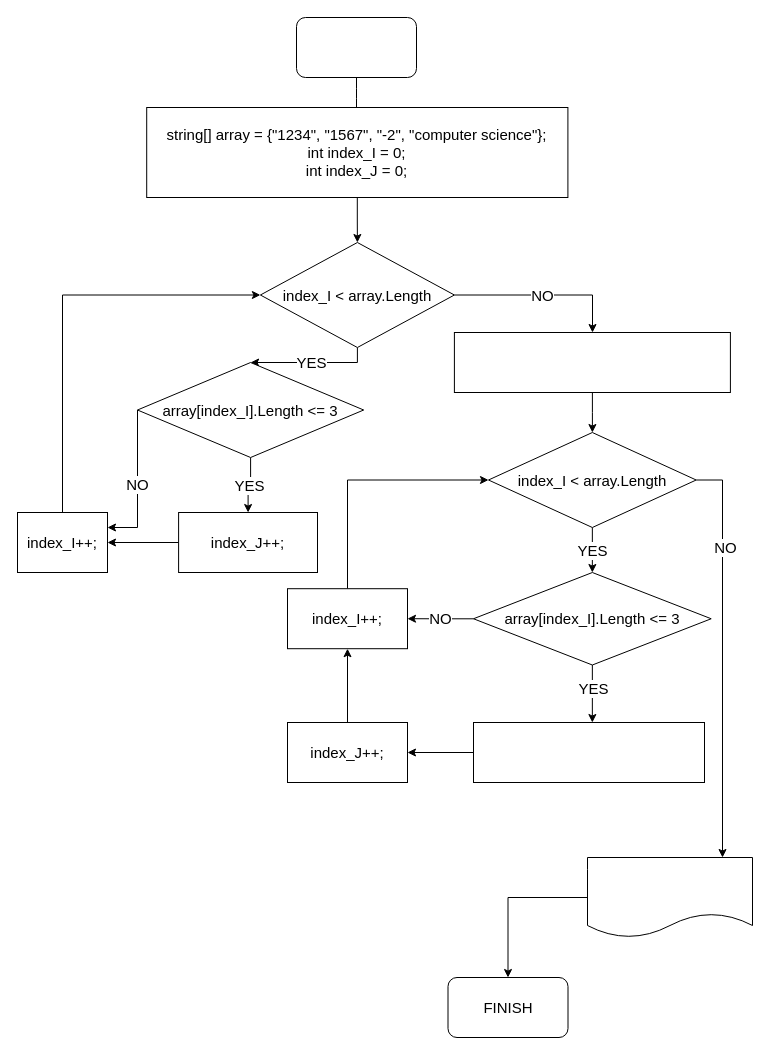
This 770x1055 diagram has some shape labels left out. Here are the shapes that lost their labels. From the top down, the centre of each, then its label:
(x=356, y=47): START
(x=591, y=362): string[] result = new string[index_J]; index_I = 0; index_J = 0;
(x=588, y=752): result[index_J] = array[index_I];
(x=669, y=897): print(result);
